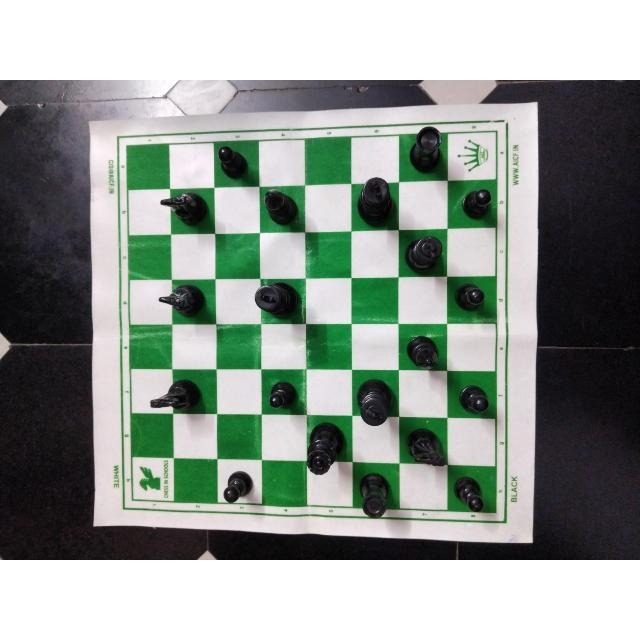black-bishop: (398, 327, 444, 372), (260, 185, 306, 229)
black-king: (354, 173, 397, 230), (352, 374, 395, 426), (252, 279, 304, 320), (401, 231, 447, 275)
black-knight: (402, 421, 447, 473), (157, 189, 212, 231), (157, 282, 209, 320), (147, 378, 203, 411)
black-pawn: (450, 475, 490, 515), (218, 467, 260, 505), (213, 142, 253, 181), (455, 185, 495, 224), (261, 378, 302, 414), (450, 378, 492, 413), (452, 280, 492, 315)
black-queen: (303, 419, 347, 477)
black-rook: (353, 465, 396, 520), (407, 126, 447, 178)
